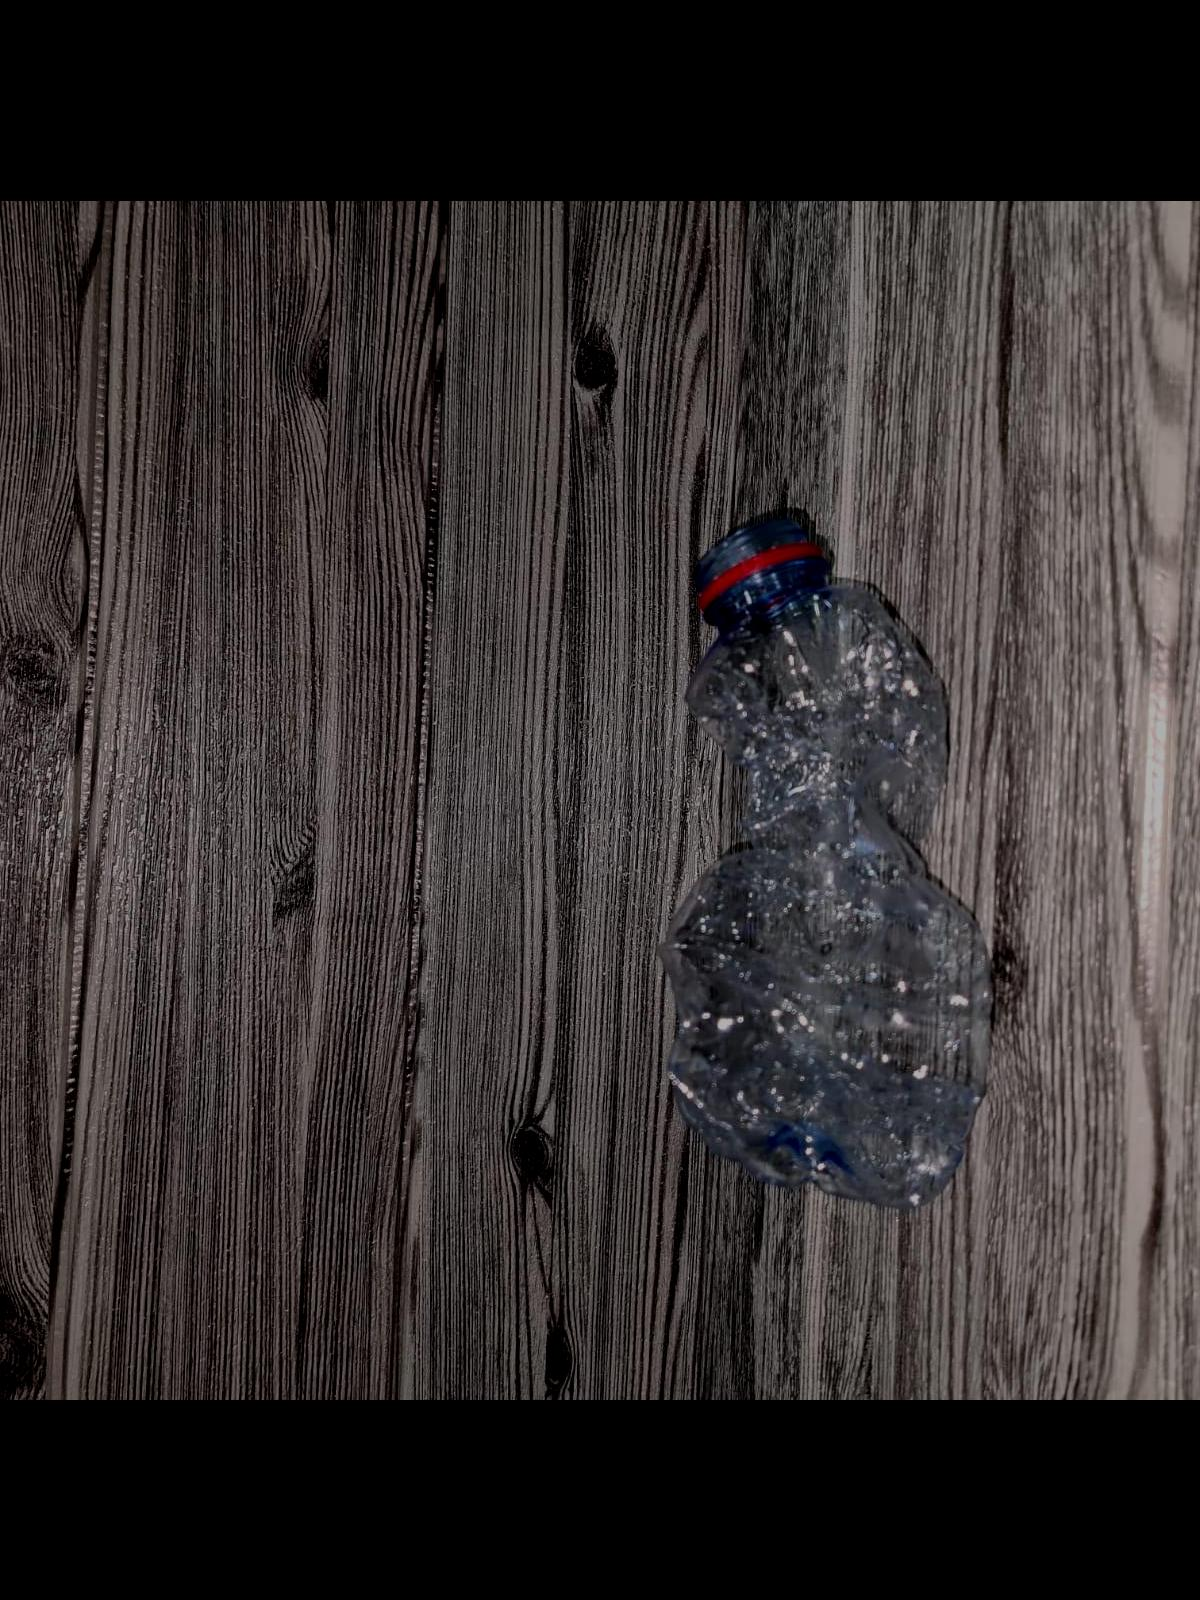bottle: (654, 500, 995, 1204)
